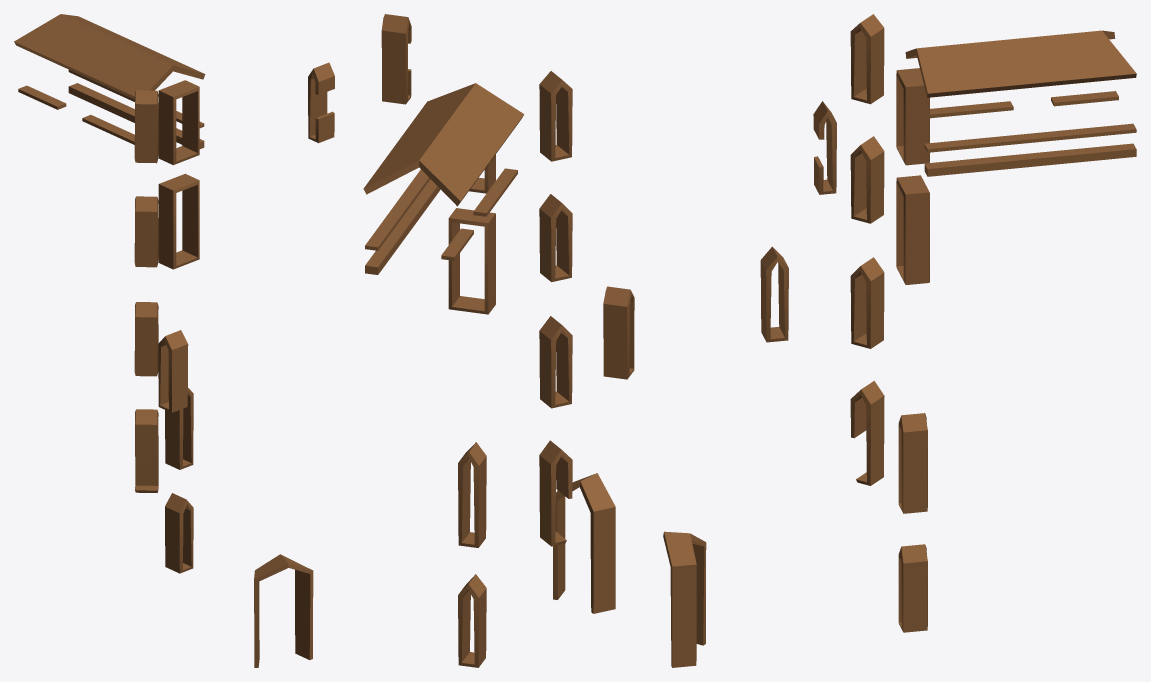
The picture shows the model from 3 angles, left to right: view 1: azimuth 30°, elevation 25°; view 2: azimuth 150°, elevation 25°; view 3: azimuth 270°, elevation 25°; orthographic projection. The views are drawn at different scales.
Parts seen in each view (by area): view 1: Object153_brown_0, Box596_brown_0, Box579_brown_0, Box532_brown_0; view 2: Object153_brown_0, Box596_brown_0, Box579_brown_0, Box532_brown_0; view 3: Object153_brown_0, Box596_brown_0, Box579_brown_0, Box532_brown_0.
Boxes of the visible parts, x1,y1,x2,y2 form: Object153_brown_0: (134,62,334,667); Box596_brown_0: (14,14,205,99); Box579_brown_0: (18,70,204,144); Box532_brown_0: (68,83,204,148); Object153_brown_0: (381,14,634,667); Box596_brown_0: (363,83,524,206); Box579_brown_0: (365,168,517,260); Box532_brown_0: (365,179,440,274); Object153_brown_0: (663,14,929,667); Box596_brown_0: (905,30,1136,97); Box579_brown_0: (924,91,1136,152); Box532_brown_0: (924,143,1136,176).
Size of the model in its own units: 748 by 1959 by 1393.
